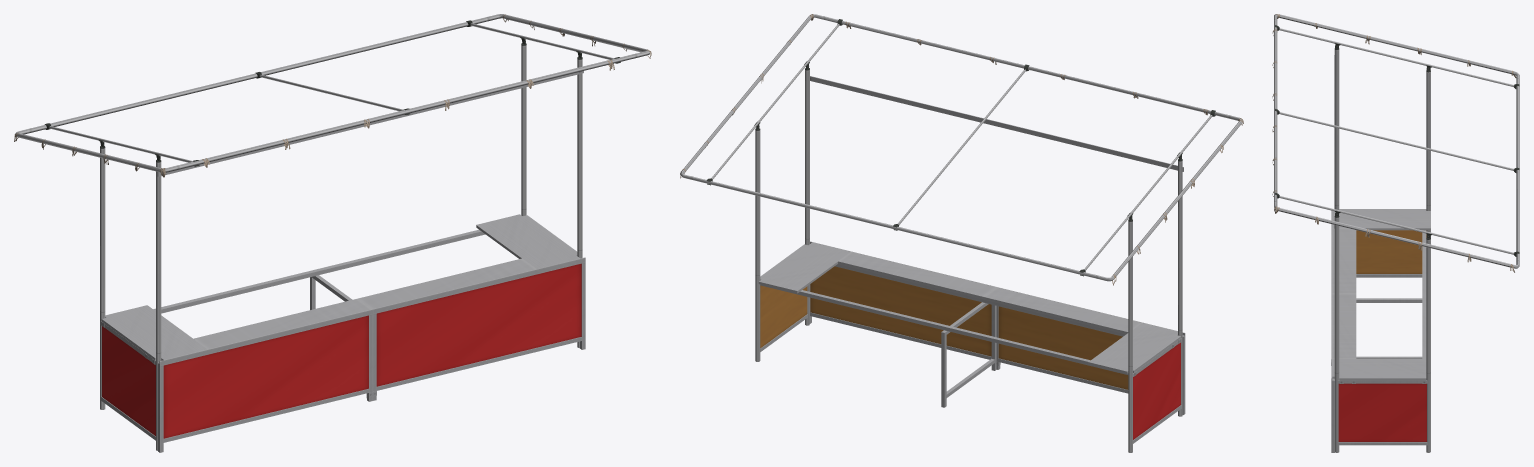
The model's file is jsf_4P_s04_c06_t03.fbx.
The picture shows the model from 3 angles, left to right: view 1: azimuth 30°, elevation 25°; view 2: azimuth 150°, elevation 25°; view 3: azimuth 270°, elevation 25°; orthographic projection. The views are drawn at different scales.
Visible parts, largest first — view 1: Base_s04_c06, Pillar4_s04, Table_4P_s04_t03, Rope_4P_s04; view 2: Base_s04_c06, Pillar4_s04, Table_4P_s04_t03, Support; view 3: Pillar4_s04, Base_s04_c06, Table_4P_s04_t03, Support, Rope_4P_s04.
Boxes of the visible parts, box(x1,y1,x2,y2) form: Base_s04_c06: box(100, 257, 585, 452); Pillar4_s04: box(14, 14, 649, 450); Table_4P_s04_t03: box(101, 214, 579, 364); Rope_4P_s04: box(14, 14, 651, 177); Base_s04_c06: box(760, 241, 1185, 443); Pillar4_s04: box(680, 14, 1242, 452); Table_4P_s04_t03: box(758, 242, 1181, 376); Support: box(941, 302, 996, 407); Pillar4_s04: box(1274, 14, 1519, 452); Base_s04_c06: box(1331, 210, 1427, 452); Table_4P_s04_t03: box(1332, 209, 1430, 383); Support: box(1356, 298, 1422, 358); Rope_4P_s04: box(1272, 14, 1516, 272).
Bounding box in the file's own units: 395 × 243 × 211.
